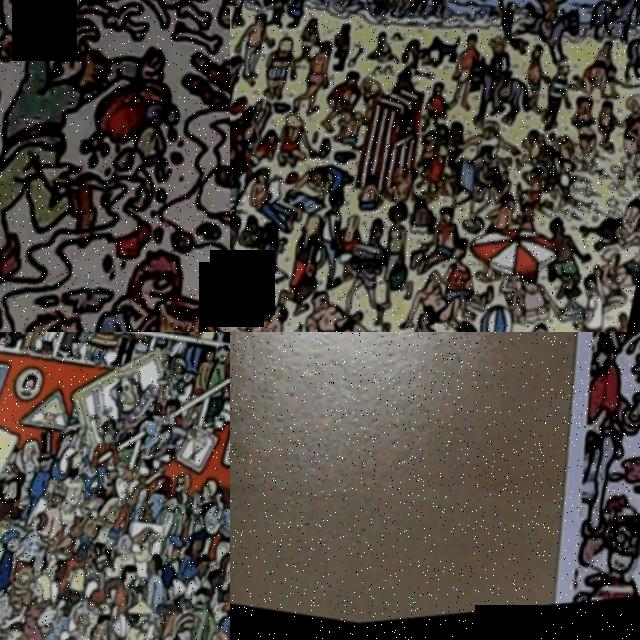waldo: (583, 499, 640, 597), (230, 120, 252, 154)
